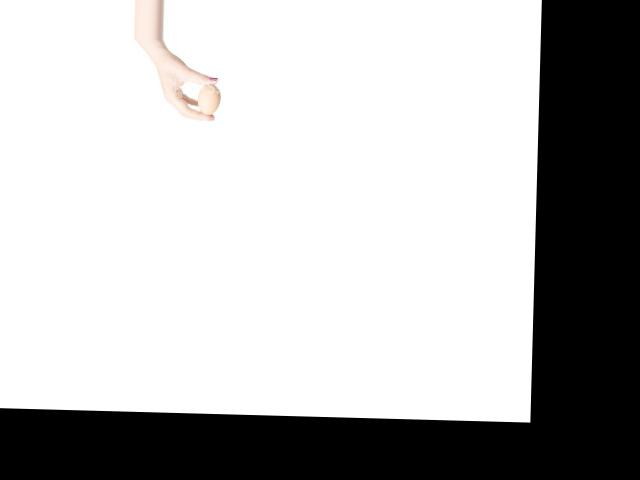egg: (197, 83, 219, 114)
